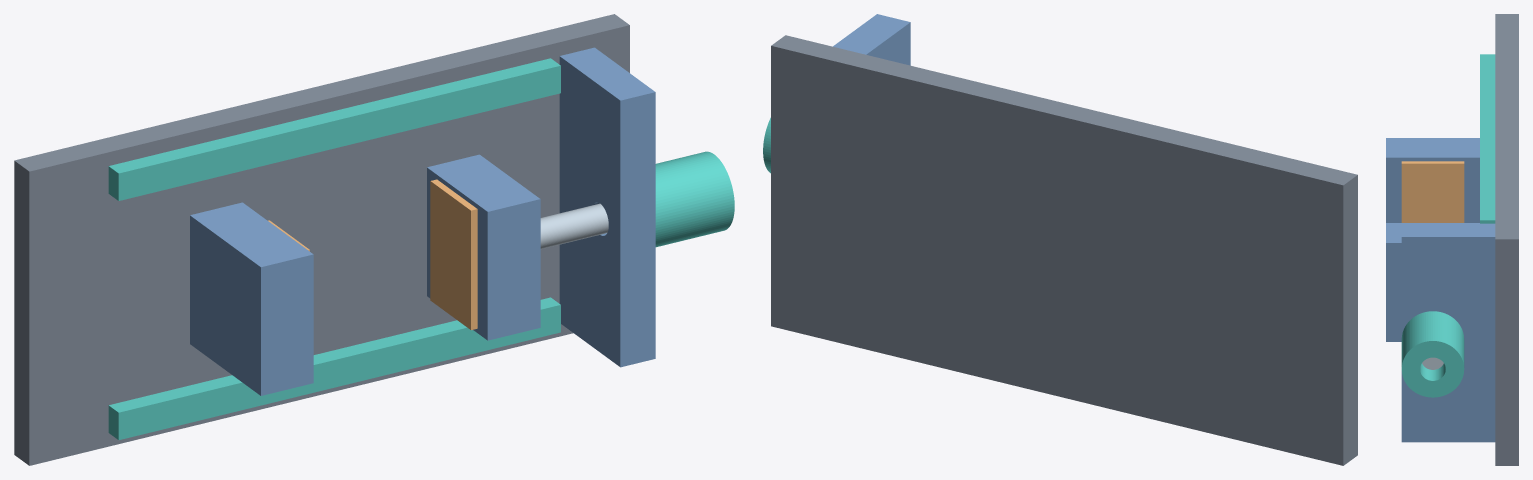
Rendered from assembly.glb.
The picture shows the model from 3 angles, left to right: view 1: azimuth 30°, elevation 25°; view 2: azimuth 150°, elevation 25°; view 3: azimuth 270°, elevation 25°; orthographic projection. The views are drawn at different scales.
Visible parts, largest first — view 1: base, actuator_support, fixed_jaw, rail_right, rail_left, moving_jaw, actuator_body, moving_pad, rod; view 2: base, actuator_support; view 3: actuator_support, base, actuator_body, fixed_jaw, fixed_pad, rail_right, moving_jaw, rod.
Part boxes in pixels (box(x1,y1,x2,y2)): base: box(14, 14, 629, 465); actuator_support: box(559, 47, 655, 367); fixed_jaw: box(190, 202, 313, 395); rail_right: box(108, 58, 560, 200); rail_left: box(108, 297, 560, 439); moving_jaw: box(427, 154, 540, 340); actuator_body: box(655, 151, 734, 247); moving_pad: box(430, 179, 477, 330); rod: box(540, 203, 608, 249); base: box(771, 35, 1357, 465); actuator_support: box(833, 14, 910, 65); actuator_support: box(1401, 223, 1495, 442); base: box(1495, 14, 1518, 465); actuator_body: box(1401, 311, 1464, 397); fixed_jaw: box(1386, 138, 1479, 222); fixed_pad: box(1401, 161, 1464, 222); rail_right: box(1480, 54, 1495, 223); moving_jaw: box(1386, 223, 1479, 341); rod: box(1422, 357, 1443, 369).
Bounding box in the file's own units: 0.1622 × 0.0708 × 0.0376.
